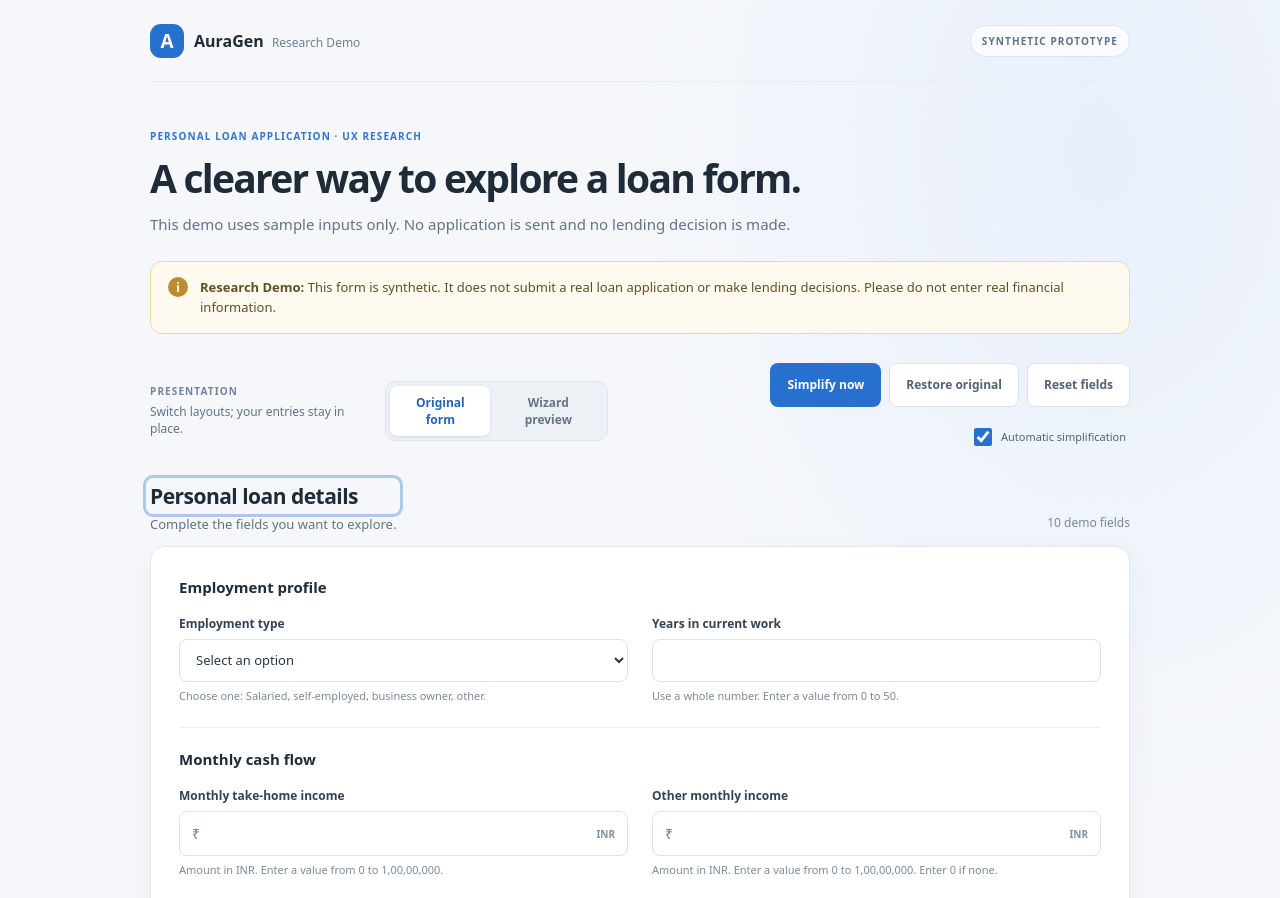
Scenario: synthetic personal loan form › supports manual simplification and restoring with automatic adaptation paused
This screenshot has width=1280, height=898.
What coordinates should you click on to do the following:
click the button "Simplify now"
I would click on:
 (826, 384)
Its box is [770,362,881,406].
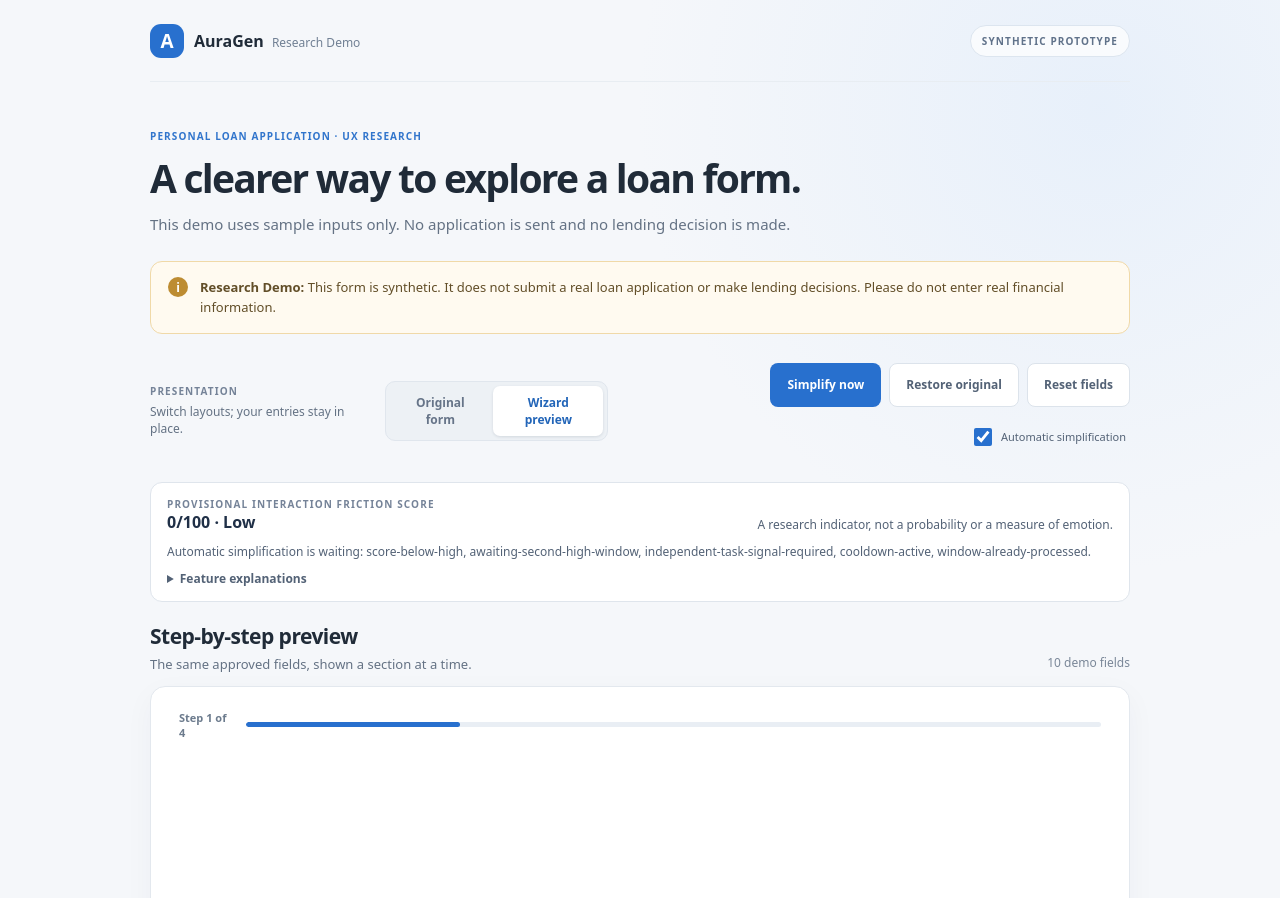
Check: the progress indicator is shown, box [246,722,1101,727]
What coordinates should you click on to do the following:
click the button "Restore original"
I would click on:
 (954, 384)
Its box is [889,362,1019,406].
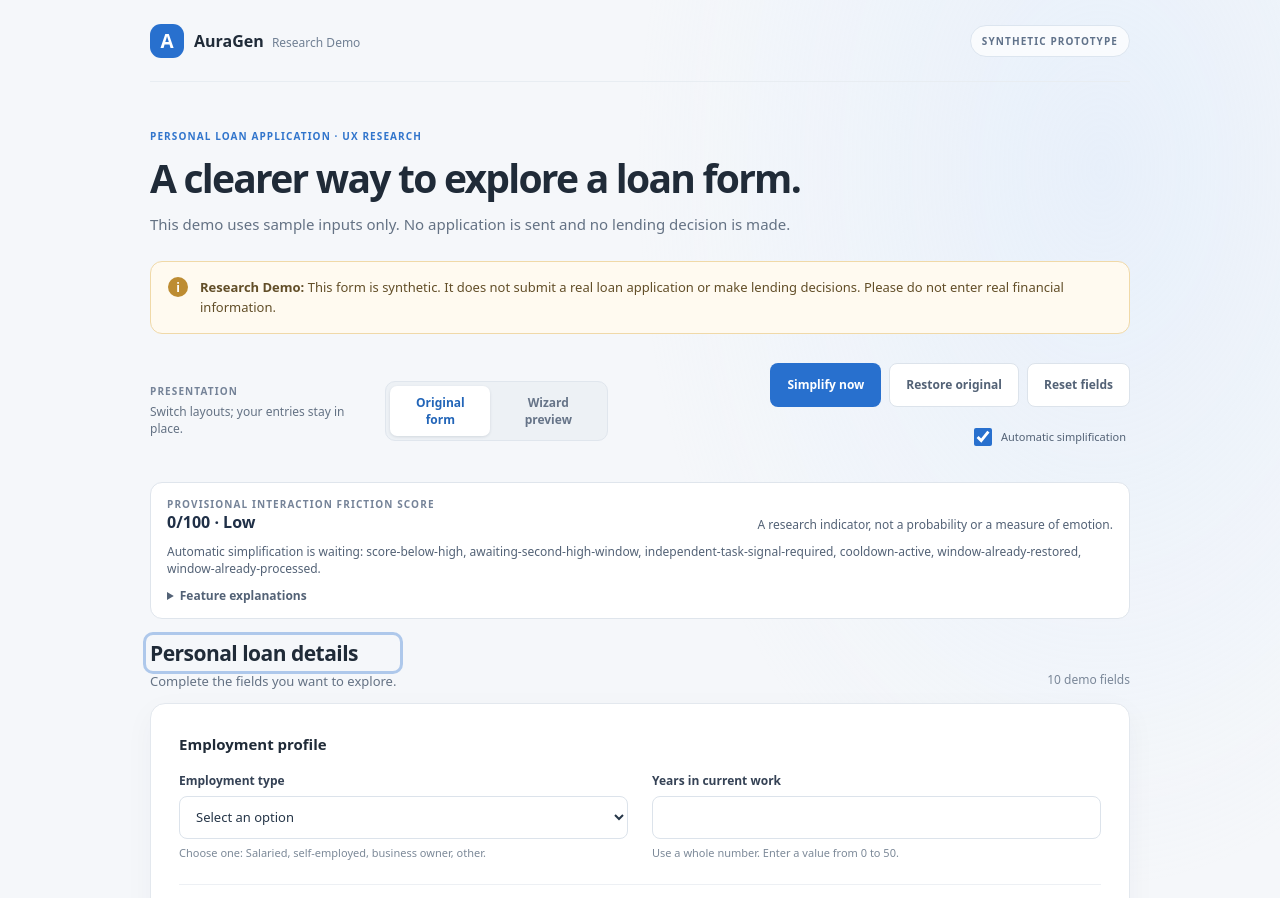
Check: the checkbox labelled "Automatic simplification" is checked, box [974,428,992,446]
Check: the heading "Personal loan details" is shown, box [150,638,358,666]
